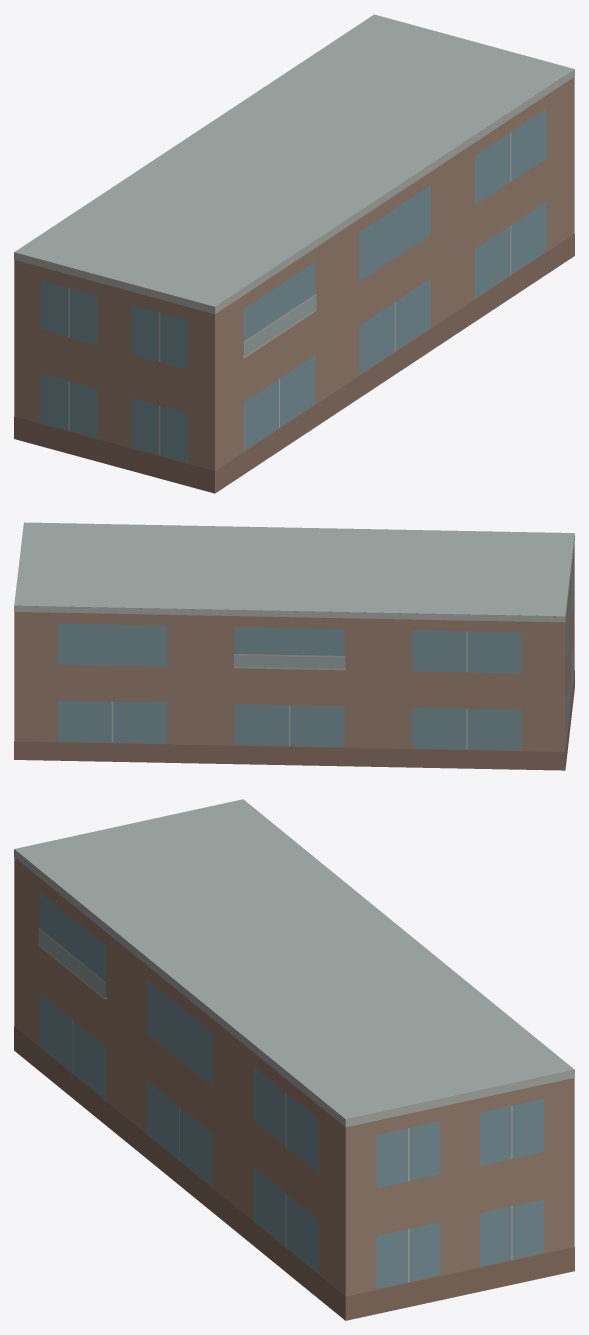
The model's file is survey-upis-32840381.glb.
The picture shows the model from 3 angles, top to bottom: view 1: azimuth 30°, elevation 25°; view 2: azimuth 150°, elevation 25°; view 3: azimuth 270°, elevation 25°; orthographic projection. The views are drawn at different scales.
Parts seen in each view (by area): view 1: survey-upis-32840381.tmp; view 2: survey-upis-32840381.tmp; view 3: survey-upis-32840381.tmp.
Part boxes in pixels (x1=…): survey-upis-32840381.tmp: x1=14, y1=14, x2=574, y2=493; survey-upis-32840381.tmp: x1=14, y1=522, x2=574, y2=770; survey-upis-32840381.tmp: x1=14, y1=799, x2=574, y2=1320.
Bounding box in the file's own units: 20.8 × 6.1 × 15.4.
